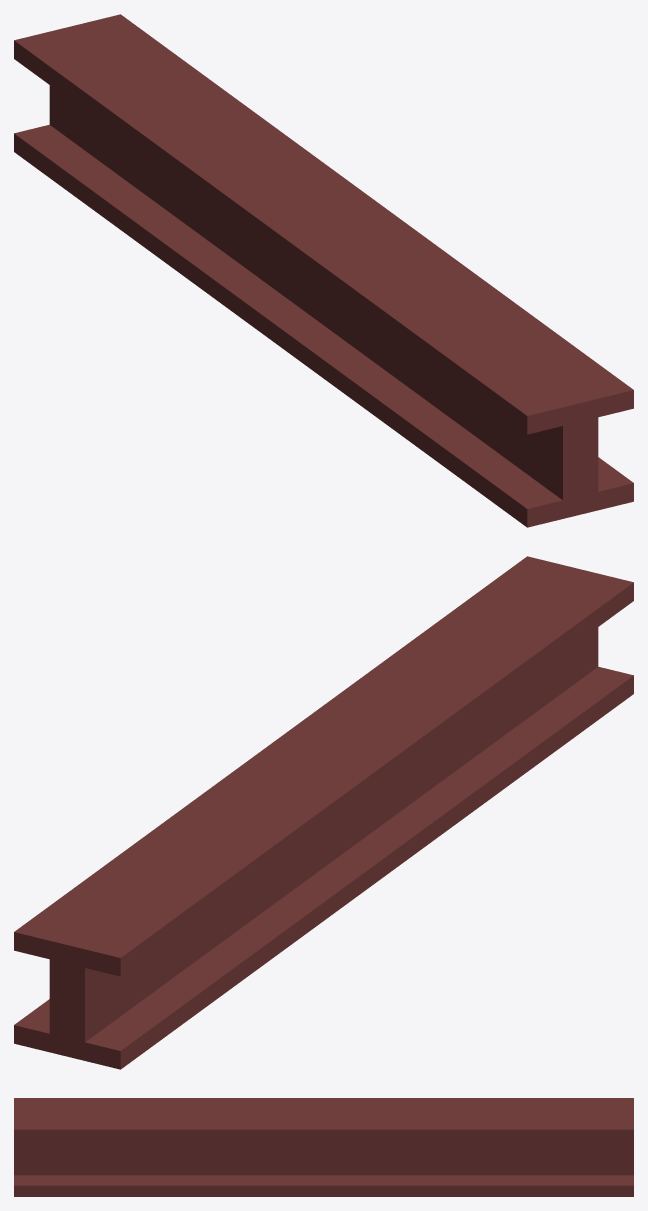
Rendered from RustedMetalDecorationSmallGirderICrossSection1.fbx.
3 renders of one model, top to bottom at view 1: azimuth 30°, elevation 25°; view 2: azimuth 150°, elevation 25°; view 3: azimuth 270°, elevation 25°, orthographic. The views are drawn at different scales.
Parts seen in each view (by area): view 1: RustedMetalDecorationSmallGirderICrossSection1; view 2: RustedMetalDecorationSmallGirderICrossSection1; view 3: RustedMetalDecorationSmallGirderICrossSection1.
Part boxes in pixels (x1,y1,x2,y2): RustedMetalDecorationSmallGirderICrossSection1: [14, 14, 633, 527]; RustedMetalDecorationSmallGirderICrossSection1: [14, 556, 633, 1069]; RustedMetalDecorationSmallGirderICrossSection1: [14, 1098, 633, 1196].
Size of the model in its own units: 60 by 60 by 500.
1 material, 1 textured.
